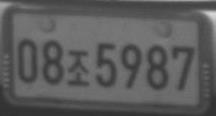0: (17, 39, 37, 83)
5: (95, 43, 117, 87)
7: (172, 46, 194, 91)
8: (41, 40, 63, 84), (146, 45, 168, 89)
9: (121, 44, 141, 89)
조: (67, 49, 90, 87)
